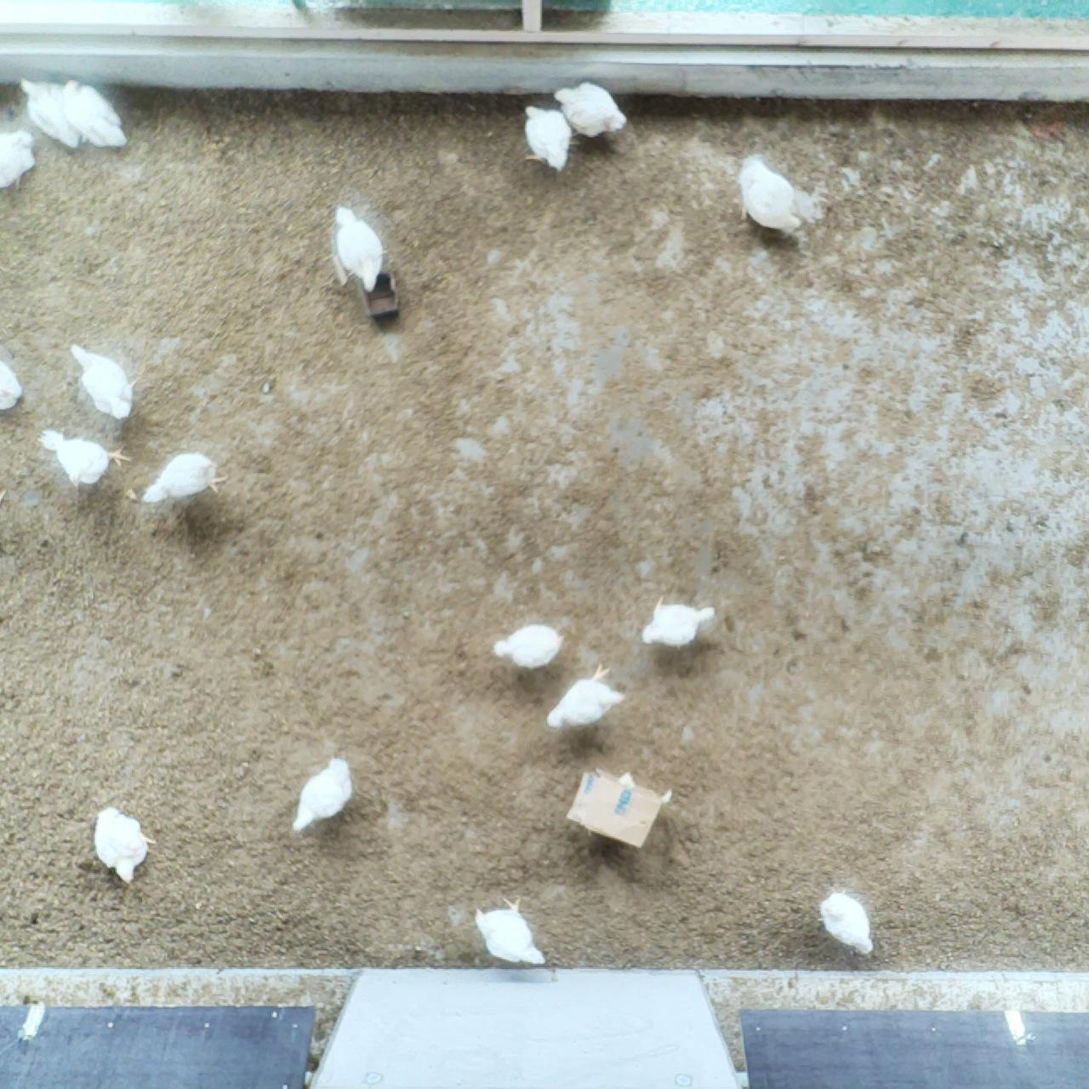chicken: (732, 148, 809, 239), (542, 660, 627, 737), (469, 894, 550, 974), (68, 340, 144, 425), (35, 425, 133, 490), (59, 77, 135, 159), (91, 804, 160, 885), (329, 202, 388, 296), (291, 754, 355, 839), (139, 448, 231, 506), (18, 73, 85, 152), (552, 76, 629, 141), (813, 883, 879, 958), (639, 593, 722, 652), (487, 620, 571, 674), (522, 102, 578, 178), (0, 127, 39, 194), (0, 357, 25, 415)
